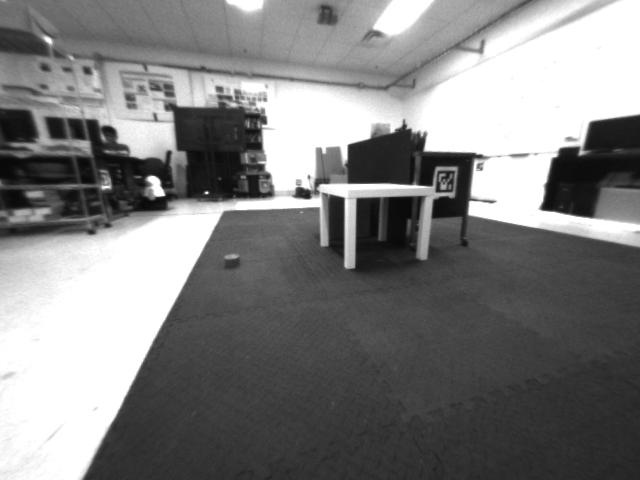dogtoy: (215, 247, 251, 273)
